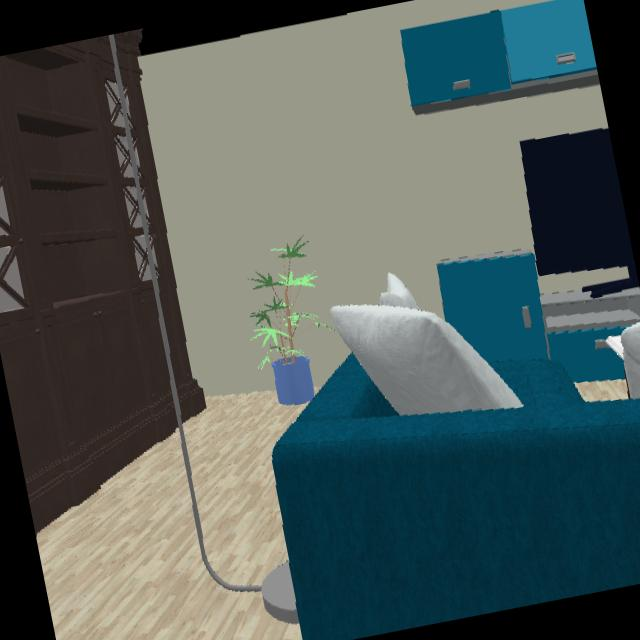bookshelf: (0, 29, 203, 530)
cabinet: (439, 251, 640, 384), (401, 0, 600, 116)
monitor: (520, 128, 640, 300)
pillow: (329, 273, 523, 415), (608, 323, 640, 401)
sofa: (271, 358, 640, 640)
